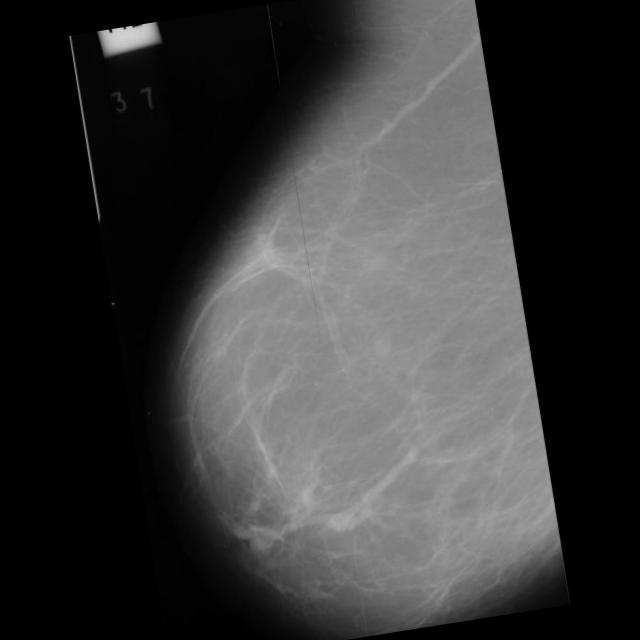MISC: (320, 491, 376, 546)
